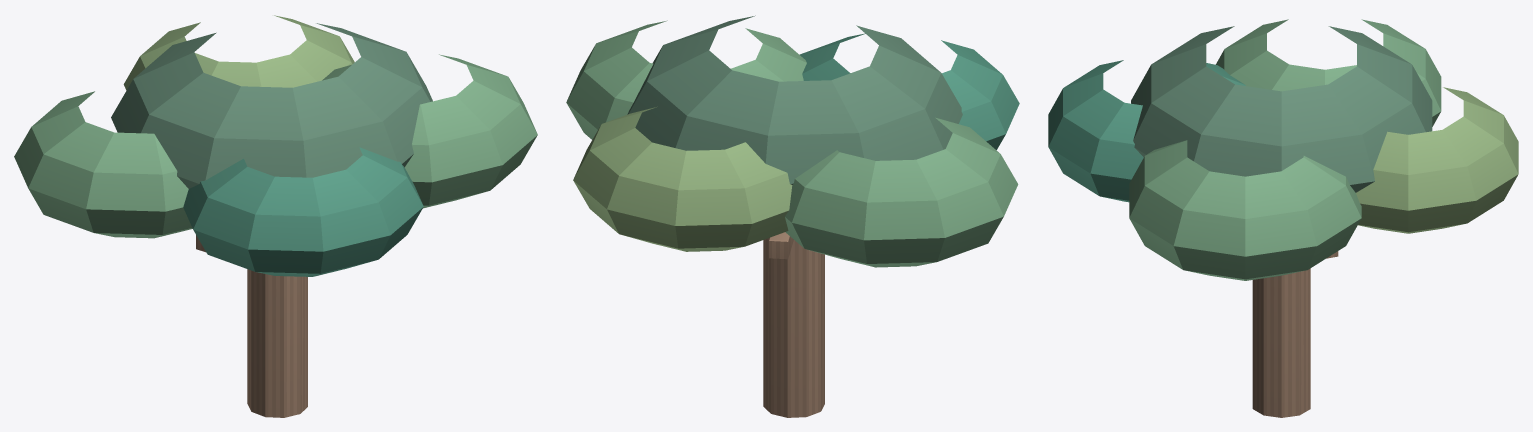
Rendered from rain_tree.glb.
3 renders of one model, left to right at view 1: azimuth 30°, elevation 25°; view 2: azimuth 150°, elevation 25°; view 3: azimuth 270°, elevation 25°, orthographic. The views are drawn at different scales.
Visible parts, largest first — view 1: rain_tree; view 2: rain_tree; view 3: rain_tree.
Part boxes in pixels (x1,y1,x2,y2): rain_tree: (14, 15, 537, 417); rain_tree: (566, 15, 1019, 417); rain_tree: (1048, 19, 1518, 417).
Size of the model in its own units: 7.24 by 5.49 by 6.49.
Materials: 1 (1 with a texture image).
